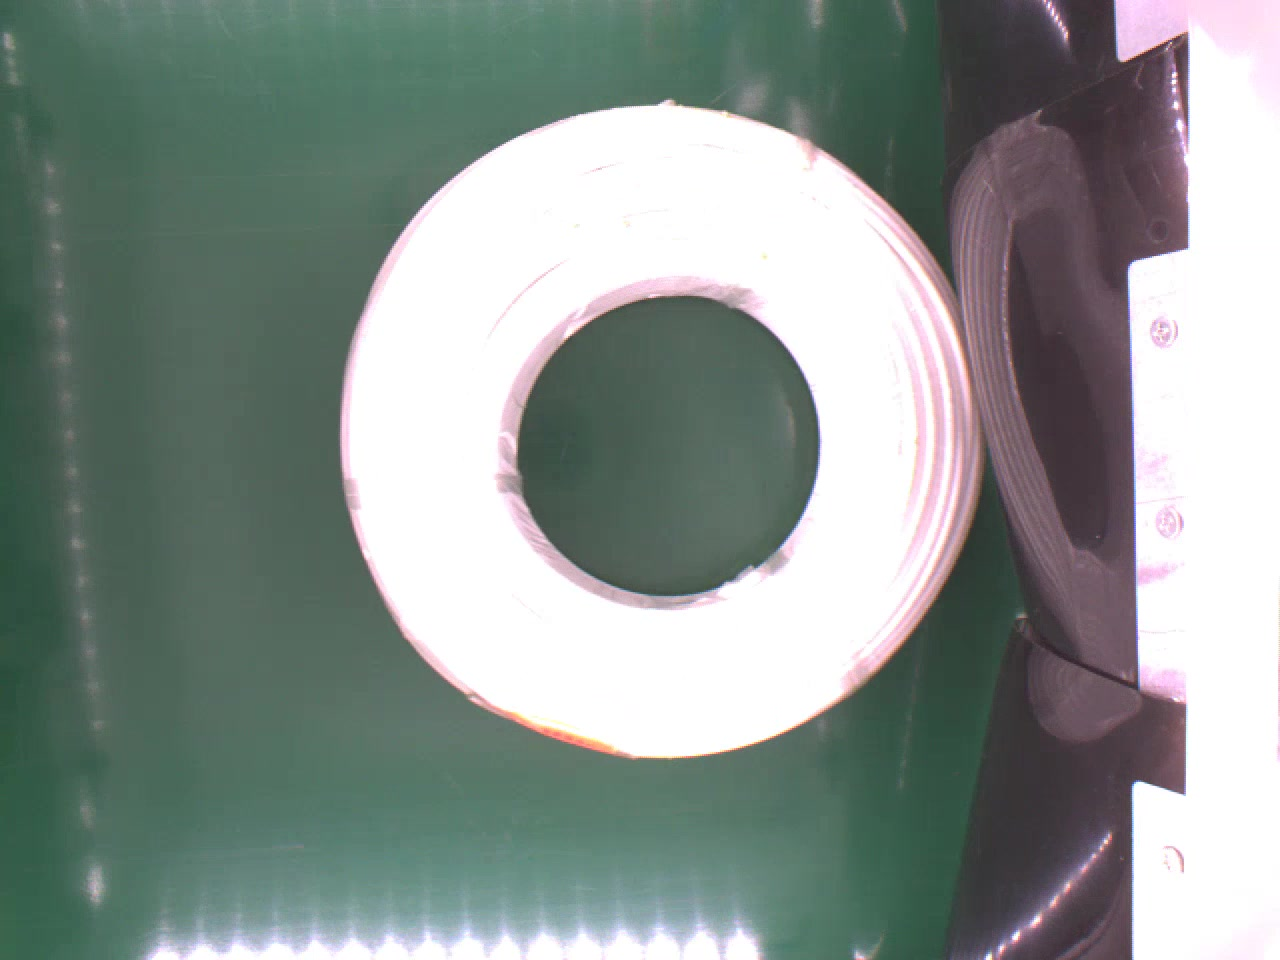white: (342, 96, 1008, 781)
